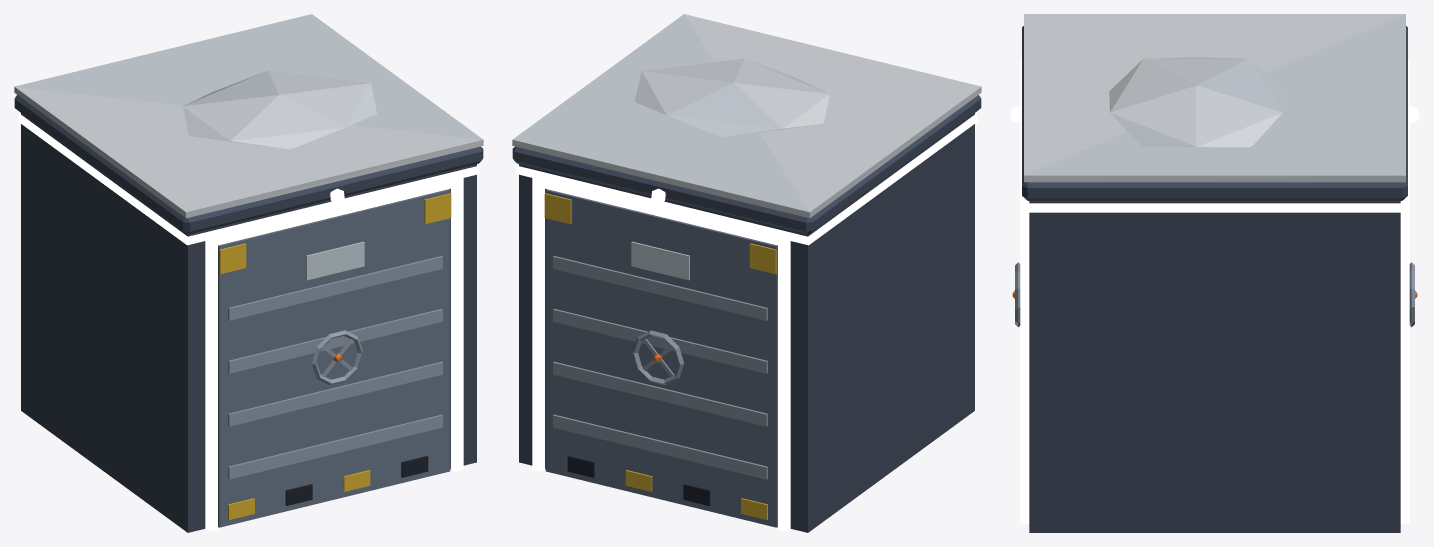
File: kit-arctic-door.glb
The picture shows the model from 3 angles, left to right: view 1: azimuth 30°, elevation 25°; view 2: azimuth 150°, elevation 25°; view 3: azimuth 270°, elevation 25°; orthographic projection. The views are drawn at different scales.
Parts seen in each view (by area): view 1: kit-arctic-door; view 2: kit-arctic-door; view 3: kit-arctic-door.
Boxes of the visible parts, left/top/right/bottom form: kit-arctic-door: left=14, top=14, right=483, bottom=532; kit-arctic-door: left=512, top=14, right=981, bottom=532; kit-arctic-door: left=1010, top=14, right=1419, bottom=532.
Size of the model in its own units: 2.08 by 2.27 by 2.21.
